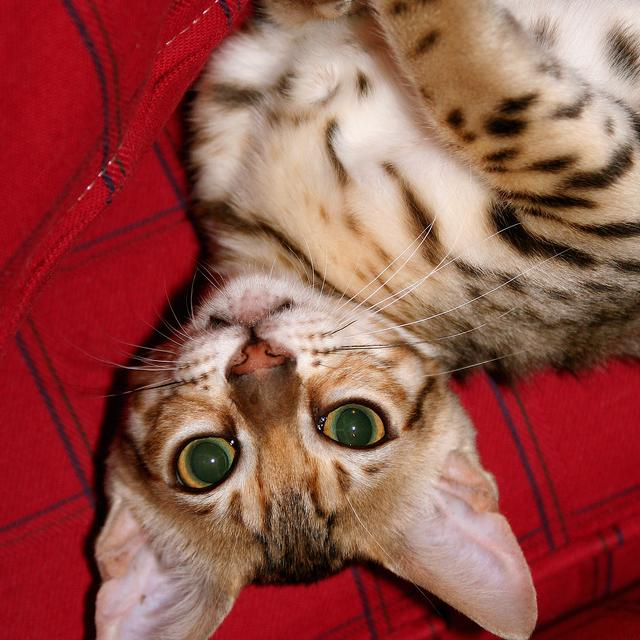animals: (112, 336, 525, 640)
